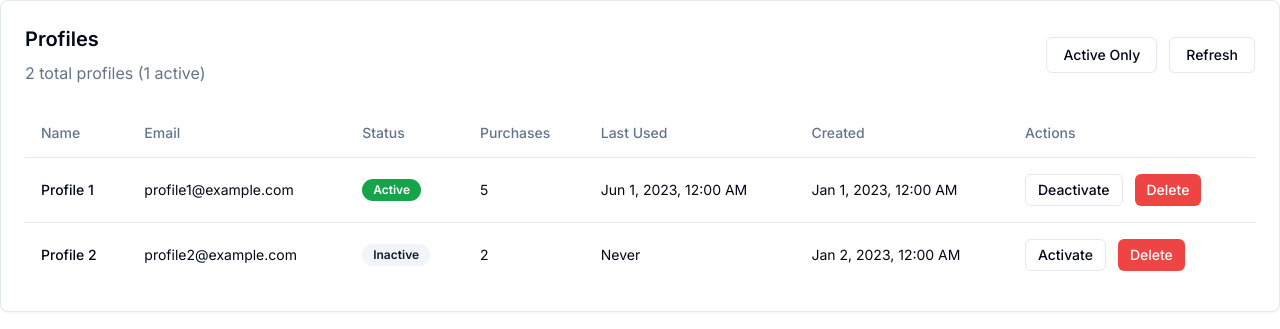
ProfileList › should handle active only filter
Click the button "Active Only" at coordinates (1102, 55), box [1046,37,1157,73]
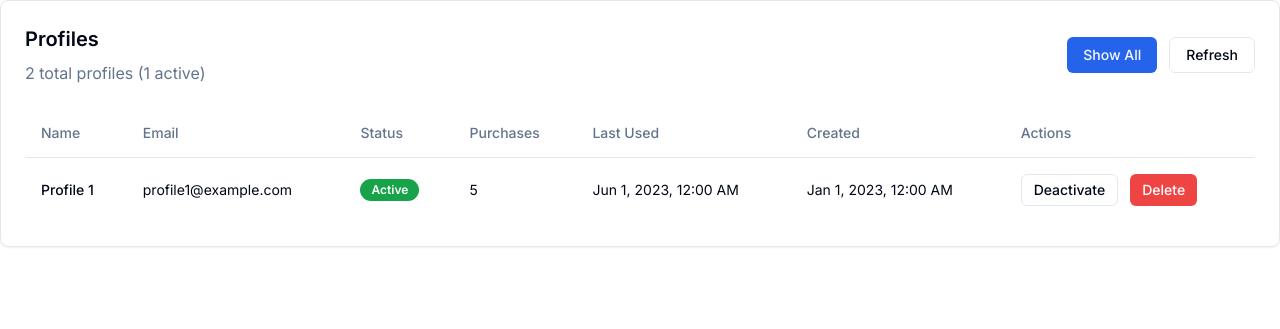
Result: the button "Show All" is shown at [1067,37,1157,73]
